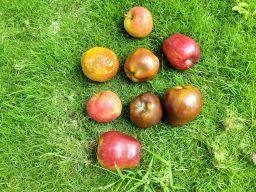apple: (159, 78, 210, 132), (94, 128, 146, 174), (81, 87, 126, 126), (79, 44, 120, 86), (161, 28, 201, 71), (123, 48, 161, 88), (118, 5, 159, 40), (128, 89, 161, 129)
